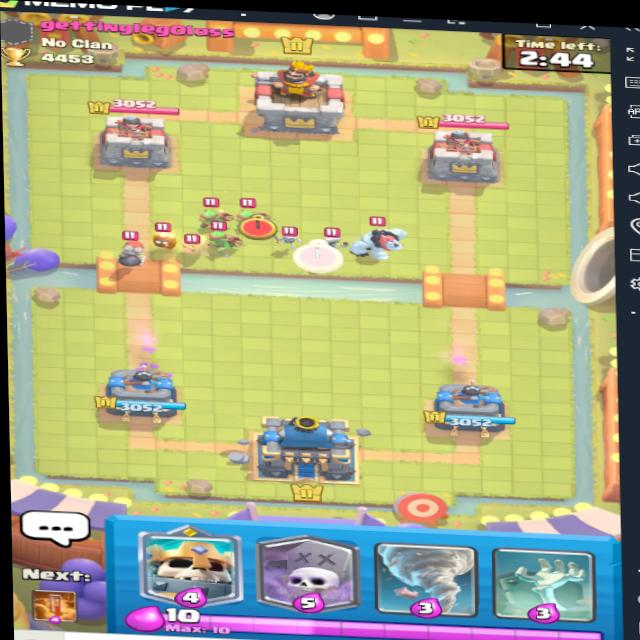bomber: (107, 232, 153, 264)
fire-spirit: (142, 221, 175, 250)
heal-spirit: (175, 231, 208, 261)
ice-golem: (345, 213, 421, 270)
skeleton: (277, 220, 311, 251), (322, 225, 349, 249)
spear-goblin: (236, 196, 265, 229), (208, 226, 240, 250), (196, 202, 221, 224)
